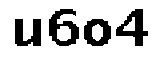4: (114, 6, 153, 50)
6: (47, 4, 80, 50)
o: (81, 18, 112, 47)
u: (7, 12, 43, 50)
